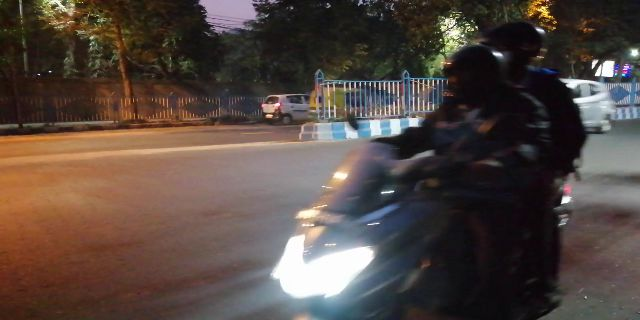Car: (260, 92, 303, 120)
Motorbike: (266, 34, 582, 309)
